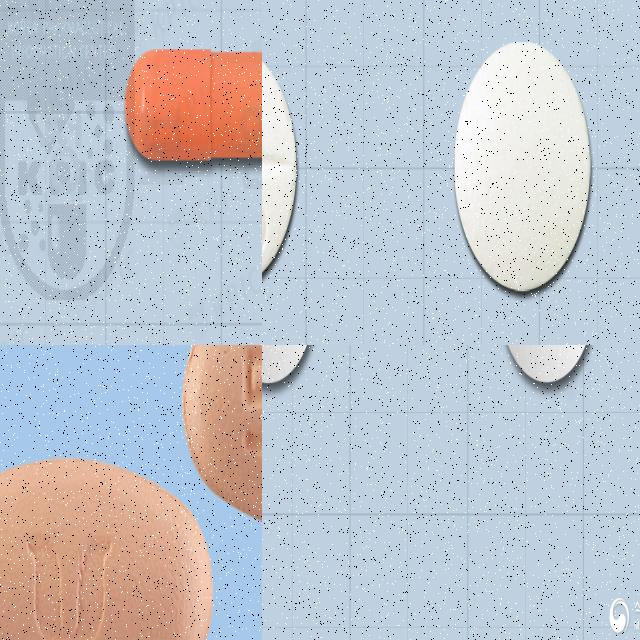Kipocin: (454, 41, 593, 294), (262, 44, 298, 288)
Levo F: (0, 453, 213, 640)
Levotra: (499, 345, 595, 383)
Myungmoon Cefixime Cap: (124, 48, 262, 163)
